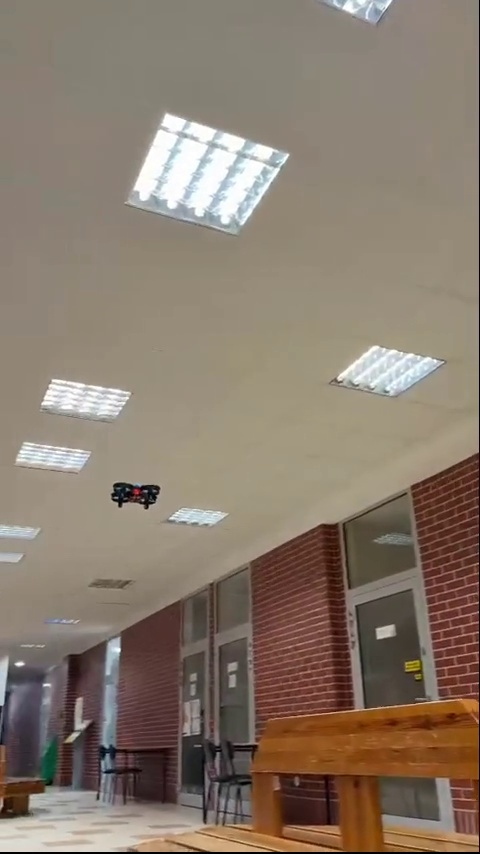drone: (110, 483, 162, 510)
